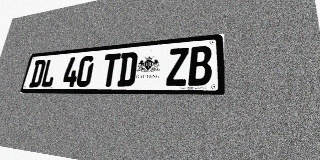0: (75, 55, 95, 87)
4: (62, 57, 81, 87)
B: (188, 45, 212, 86)
D: (117, 52, 138, 86), (29, 59, 46, 87)
L: (40, 58, 58, 87)
T: (100, 53, 121, 87)
Z: (166, 47, 189, 86)
